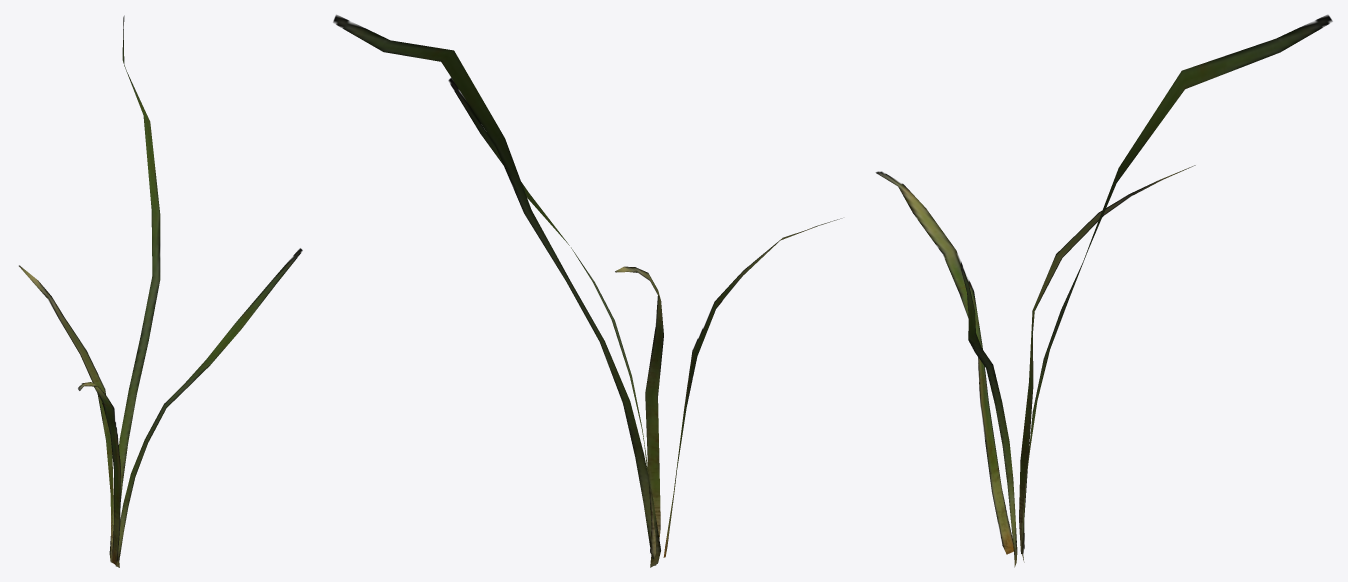
Rendered from grass.glb.
3 renders of one model, left to right at view 1: azimuth 30°, elevation 25°; view 2: azimuth 150°, elevation 25°; view 3: azimuth 270°, elevation 25°, orthographic. The views are drawn at different scales.
Visible parts, largest first — view 1: PolyHaven_Grass_Tiny_A; view 2: PolyHaven_Grass_Tiny_A; view 3: PolyHaven_Grass_Tiny_A.
Part boxes in pixels (x1,y1,x2,y2): PolyHaven_Grass_Tiny_A: (19, 15, 302, 567); PolyHaven_Grass_Tiny_A: (333, 15, 842, 567); PolyHaven_Grass_Tiny_A: (875, 15, 1332, 567).
Size of the model in its own units: 0.2515 by 0.42 by 0.2755.
1 material, 1 textured.
